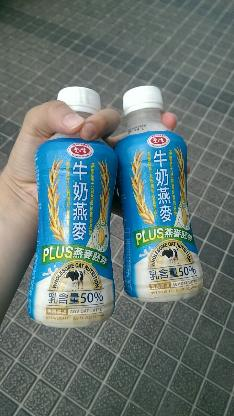Plastic Bottle: (115, 85, 203, 302), (28, 133, 118, 327), (58, 87, 101, 118)
